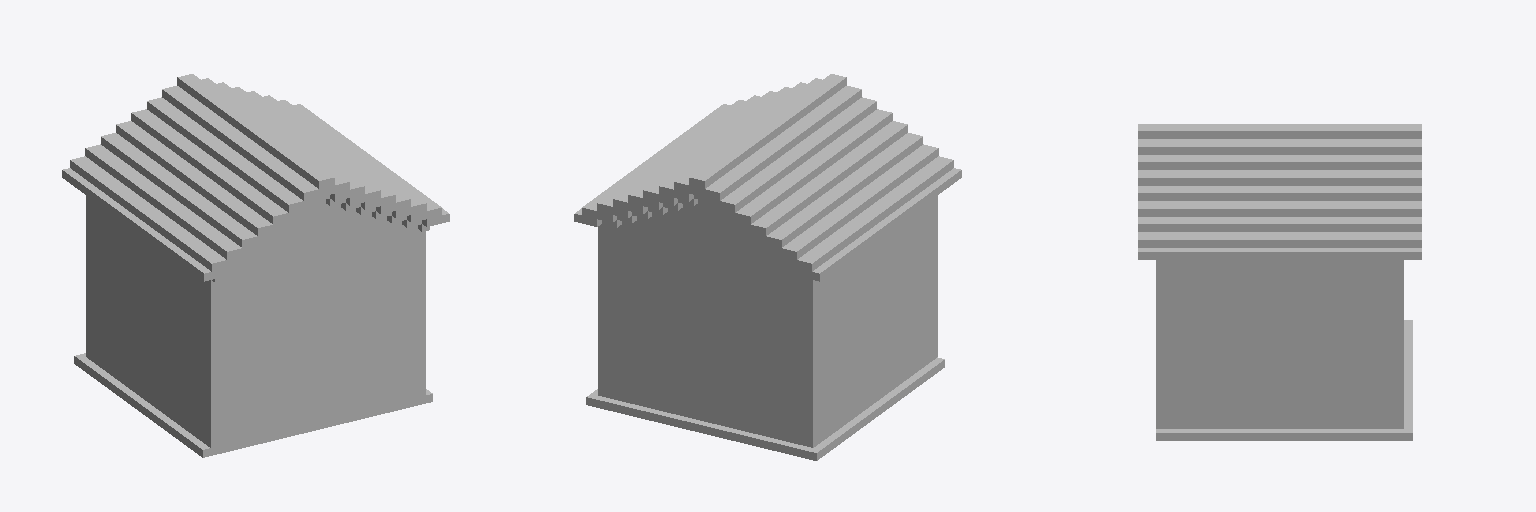
The model's file is house.obj.
The picture shows the model from 3 angles: view 1: azimuth 30°, elevation 25°; view 2: azimuth 150°, elevation 25°; view 3: azimuth 270°, elevation 25°; orthographic projection.
Parts seen in each view (by area): view 1: object 1; view 2: object 1; view 3: object 1.
Part boxes in pixels (x1,y1,x2,y2): object 1: (62, 74, 449, 457); object 1: (574, 74, 961, 460); object 1: (1138, 124, 1421, 440).
Bounding box in the file's own units: 3.2 × 3.2 × 3.2.